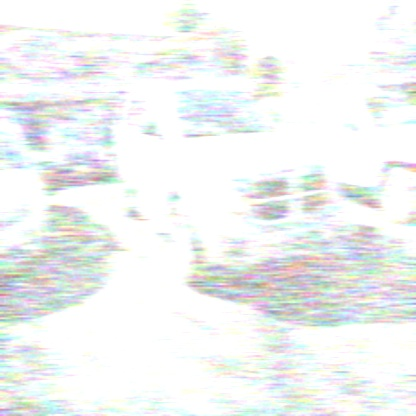Vehicle: (114, 78, 352, 294)
